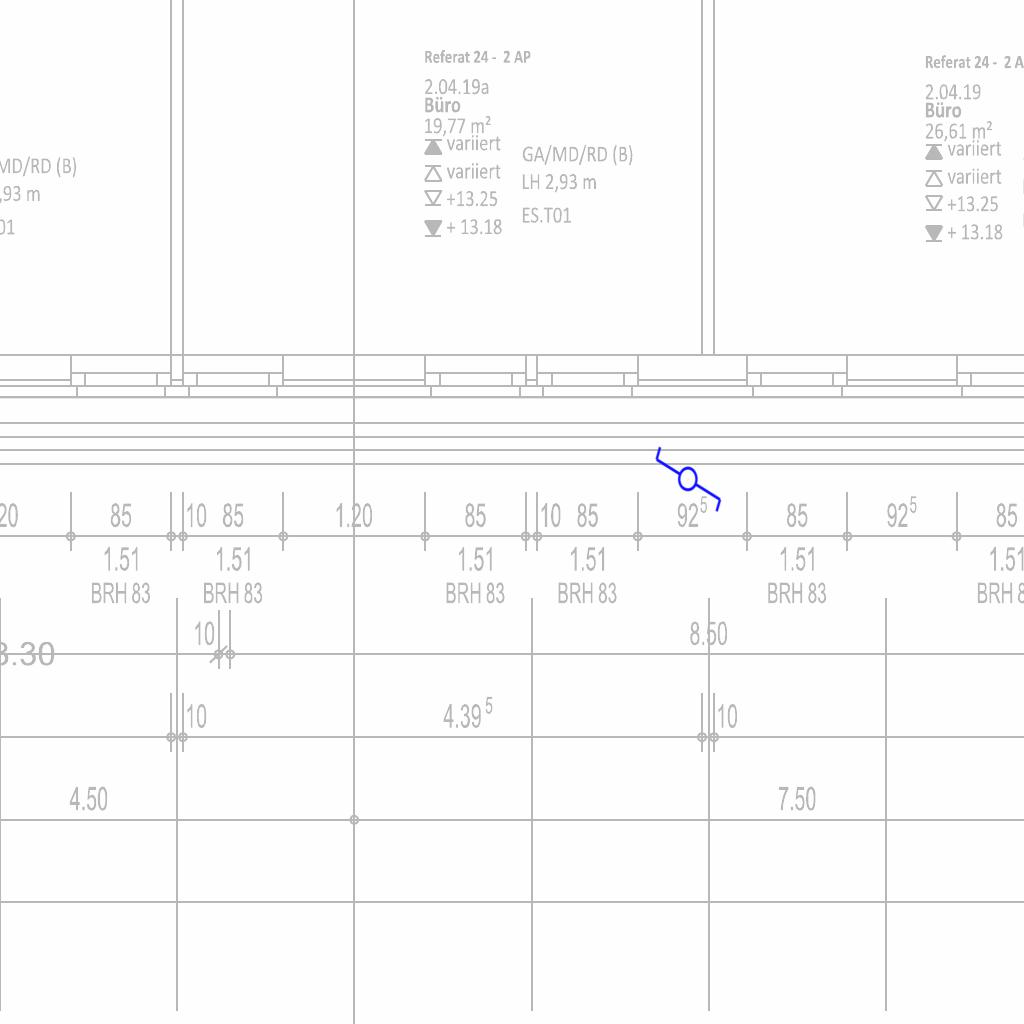Wechselschalter: (653, 436, 725, 514)
